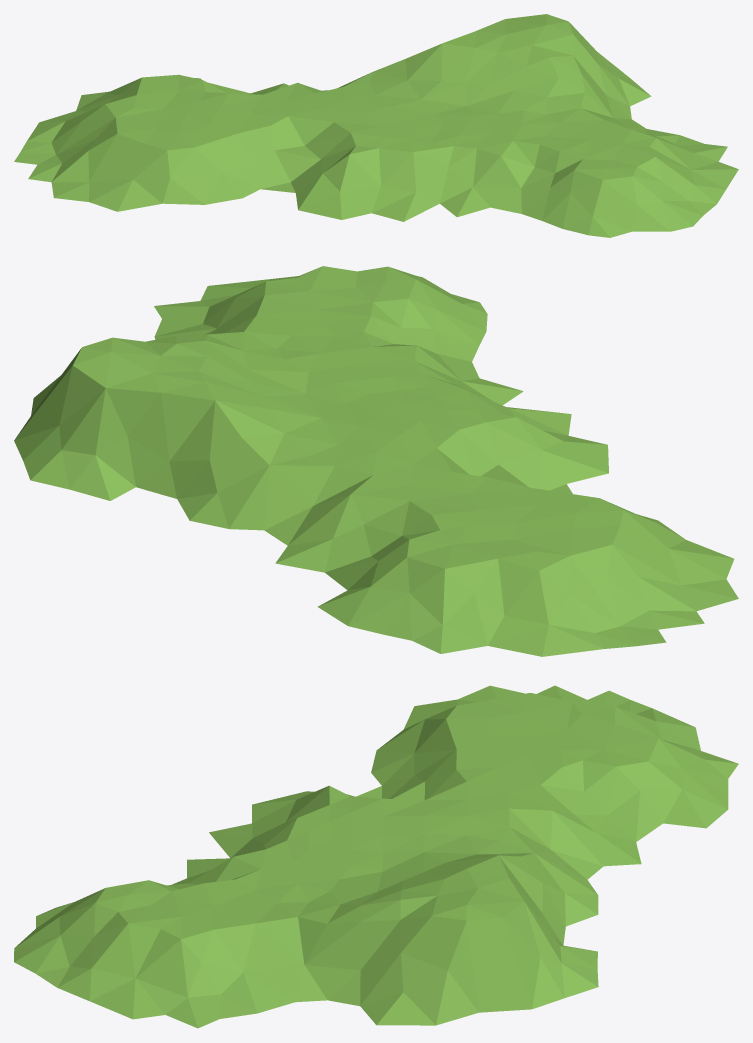
File: MT_Mountain_L_b_13_LOD.fbx
The picture shows the model from 3 angles, top to bottom: view 1: azimuth 30°, elevation 25°; view 2: azimuth 150°, elevation 25°; view 3: azimuth 270°, elevation 25°; orthographic projection. The views are drawn at different scales.
Visible parts, largest first — view 1: MT_Mountain_L_b_13_LOD0; view 2: MT_Mountain_L_b_13_LOD0; view 3: MT_Mountain_L_b_13_LOD0.
Boxes of the visible parts, x1,y1,x2,y2 form: MT_Mountain_L_b_13_LOD0: [14, 14, 738, 237]; MT_Mountain_L_b_13_LOD0: [14, 266, 738, 656]; MT_Mountain_L_b_13_LOD0: [14, 685, 738, 1028].
Size of what is drawn, in the model's own units: 6022 by 641 by 5379.
